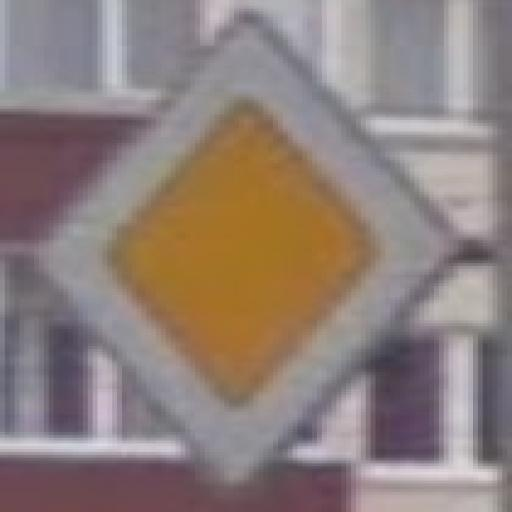traffic_sign: (35, 10, 469, 490)
